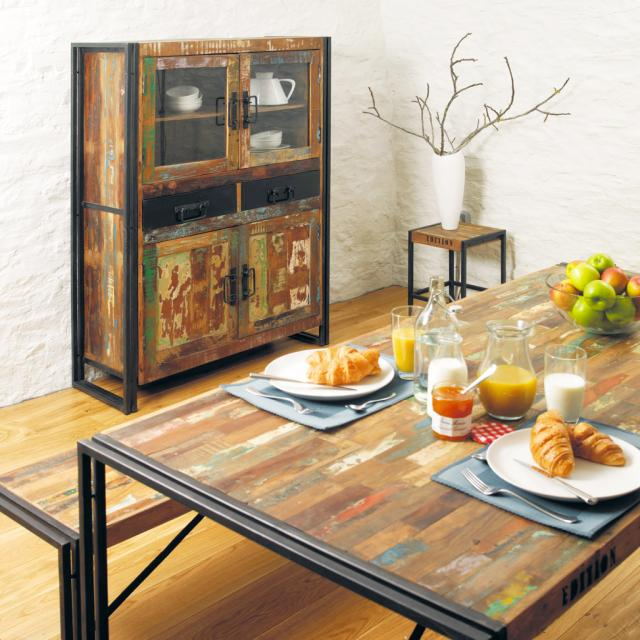Healty Apple: (551, 252, 640, 334), (600, 264, 628, 294)
